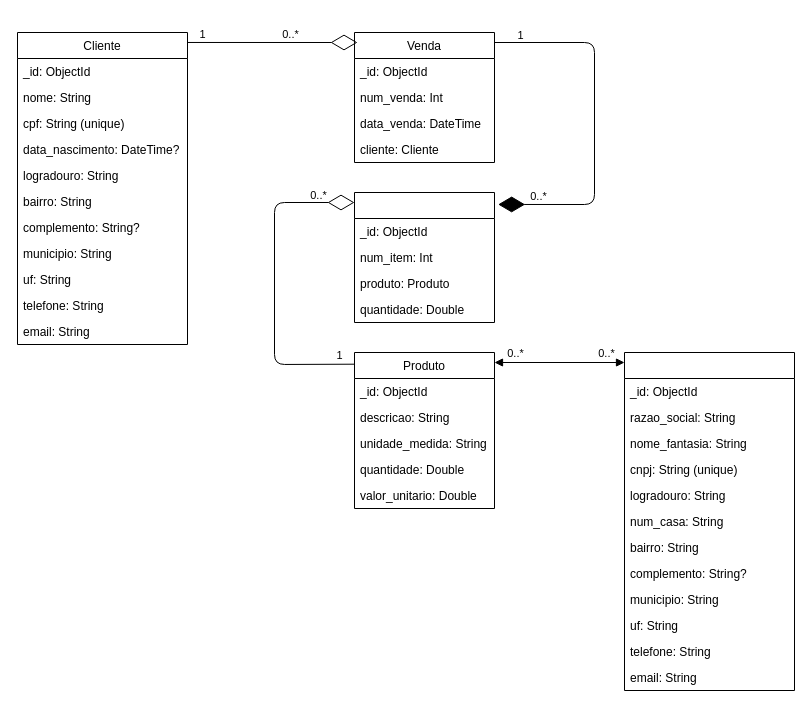
The diagram is 812 pixels wide and 711 high, and some of its shapes have lost their labels. Each missing label, with the box of its shape:
Fornecedor: (624, 352, 794, 690)
ItemVenda: (354, 192, 494, 322)
